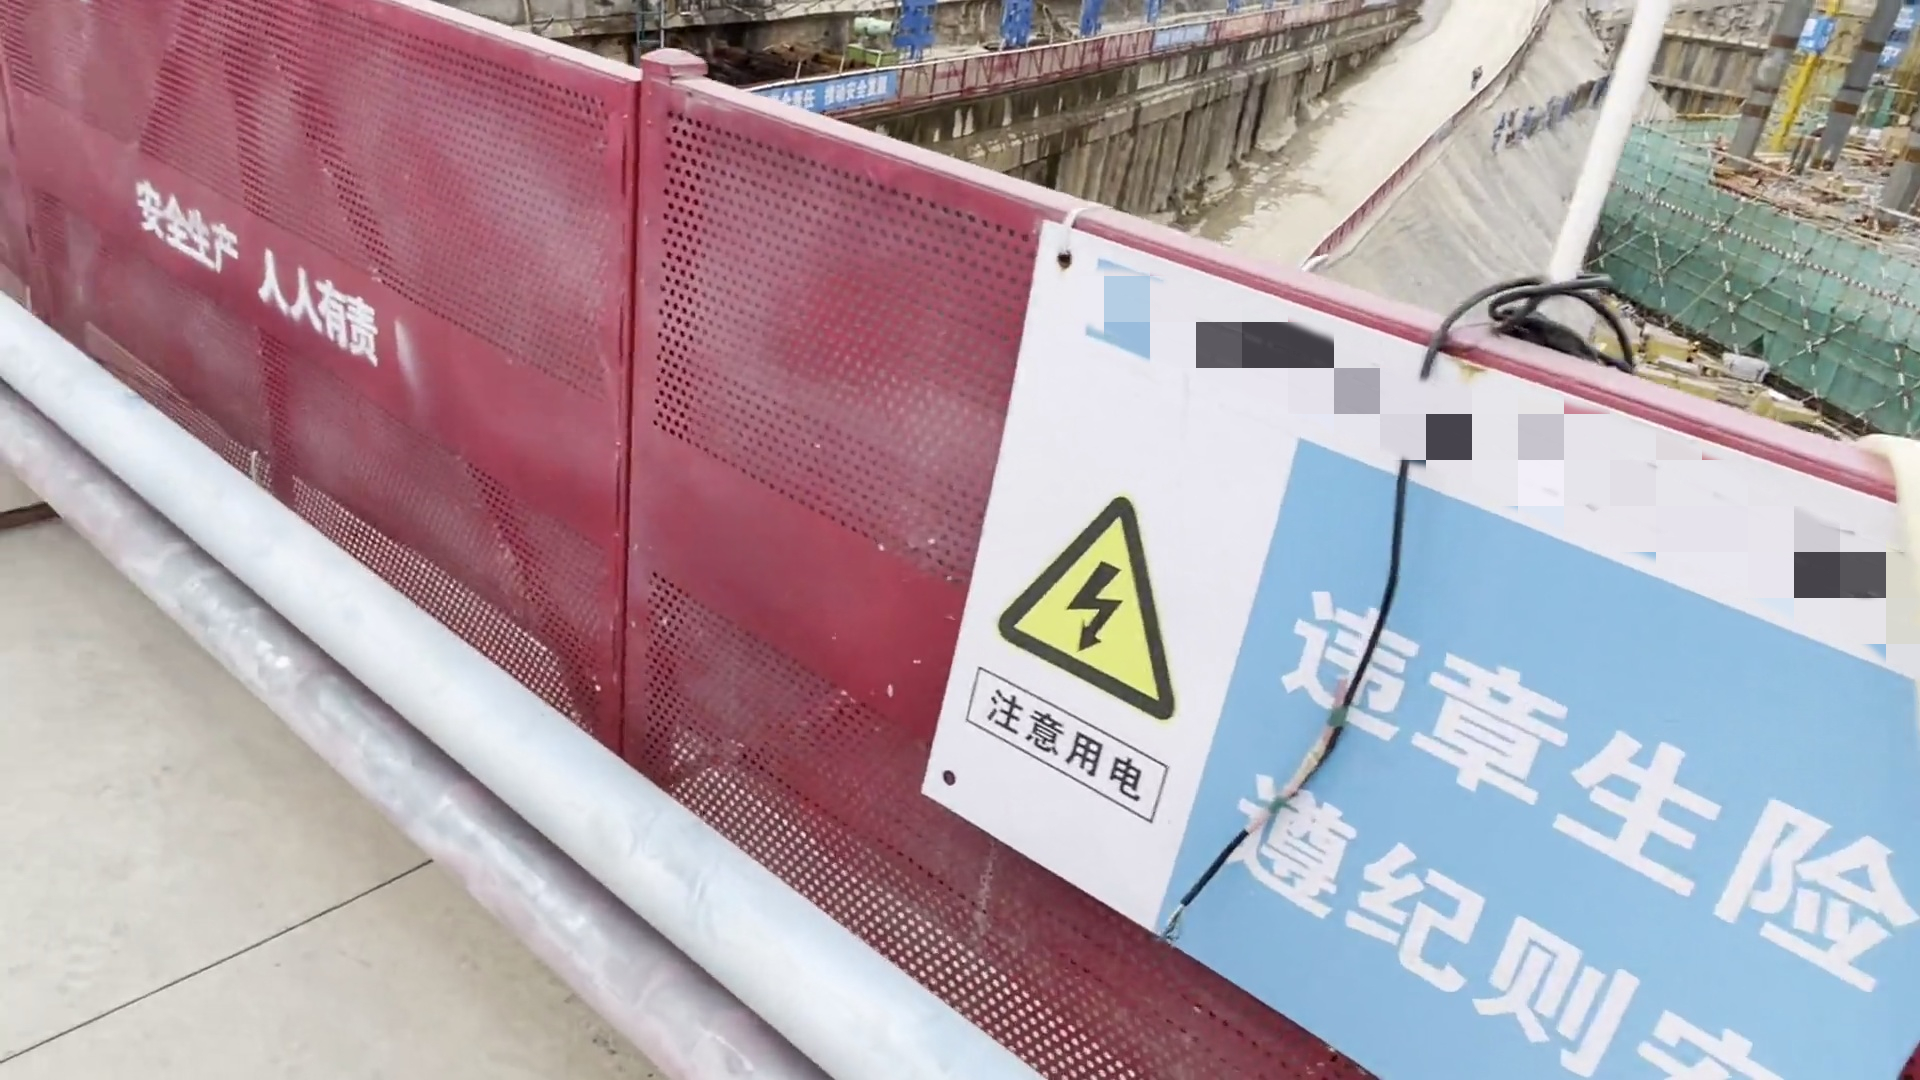fence: (46, 1, 880, 855)
slogan: (895, 193, 1920, 1079), (756, 69, 907, 107)
